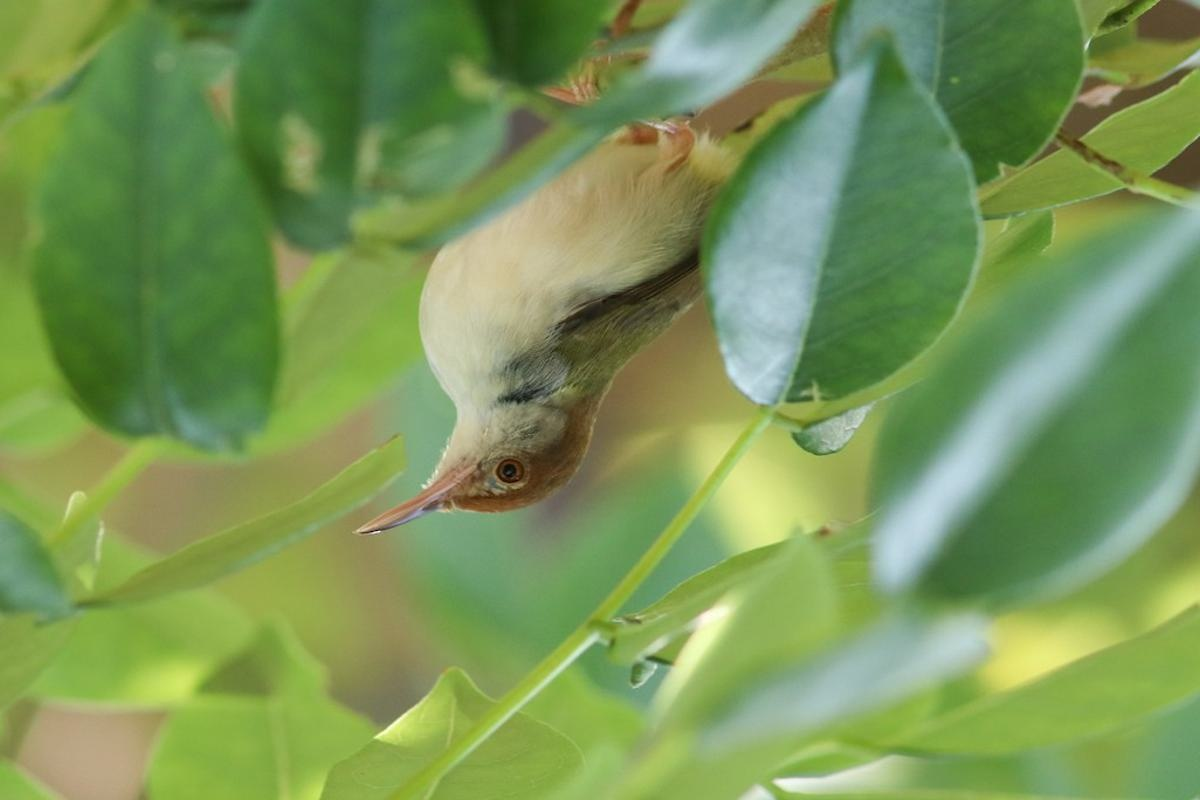tailorbird: (375, 106, 759, 566)
